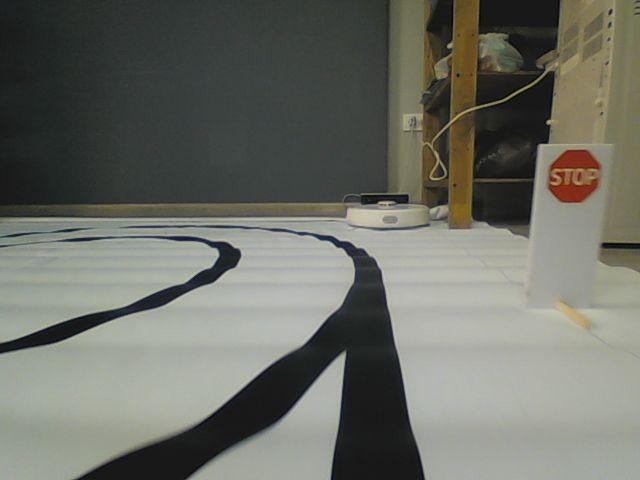Stop: (545, 148, 602, 205)
